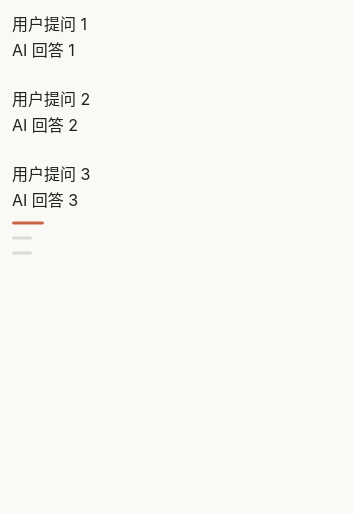
Test case: TurnRailNav 轮次导航 › 悬停约半秒后出预览：标题为轮次序号，正文为该轮开头摘录
Hover over the 2nd button with class "turn-rail__tick" at (22, 238), box [12,236,32,239]
Wait 501 ms
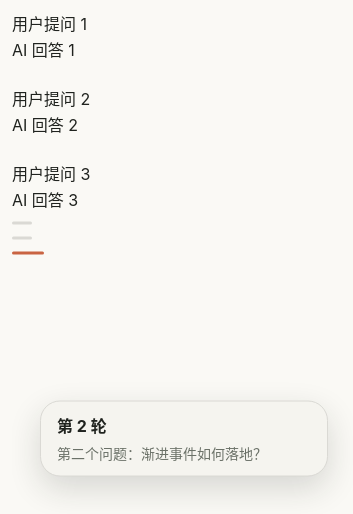
Expected: the tooltip with class "turn-rail__preview" is shown, [40,400,328,477]
Expected: the text with class "turn-rail__preview-title" reads "第 2 轮", [57,415,107,435]
Expected: the text with class "turn-rail__preview-excerpt" shows "第二个问题", [57,445,267,462]
// 移开即收起（预览框 pointer-events:none，鼠标直接穿过）
Move the pointer off the 2nd button with class "turn-rail__tick", box [12,236,32,239]
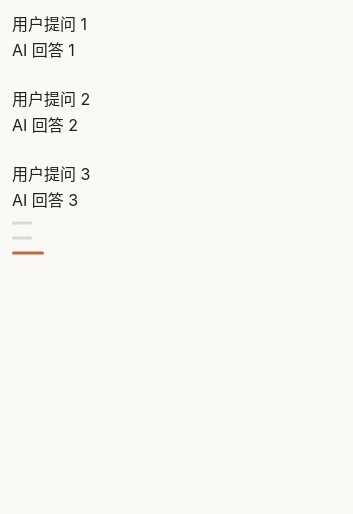
Expected: the tooltip with class "turn-rail__preview" is gone
